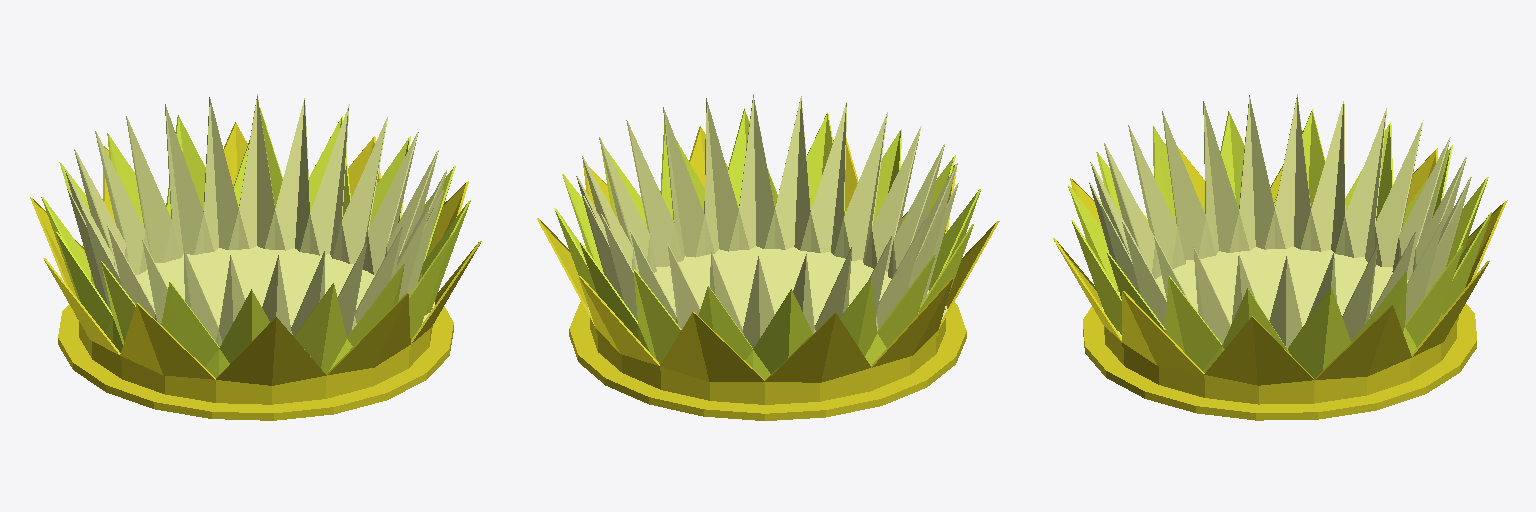
3 views of the same model, side by side, from view 1: azimuth 30°, elevation 25°; view 2: azimuth 150°, elevation 25°; view 3: azimuth 270°, elevation 25° (orthographic).
Visible parts, largest first — view 1: Cylinder.001, pCylinder1, Cylinder; view 2: Cylinder.001, pCylinder1, Cylinder; view 3: Cylinder.001, pCylinder1, Cylinder.
Part boxes in pixels (left/top/right/bottom): Cylinder.001: left=65, top=94, right=446, bottom=346; pCylinder1: left=30, top=122, right=481, bottom=420; Cylinder: left=41, top=108, right=470, bottom=377; Cylinder.001: left=576, top=94, right=958, bottom=348; pCylinder1: left=537, top=126, right=999, bottom=420; Cylinder: left=554, top=108, right=980, bottom=379; Cylinder.001: left=1089, top=94, right=1471, bottom=348; pCylinder1: left=1053, top=130, right=1507, bottom=420; Cylinder: left=1068, top=109, right=1491, bottom=378.
Bounding box in the file's own units: 7.39 × 2.9 × 7.31.
3 materials, 3 textured.